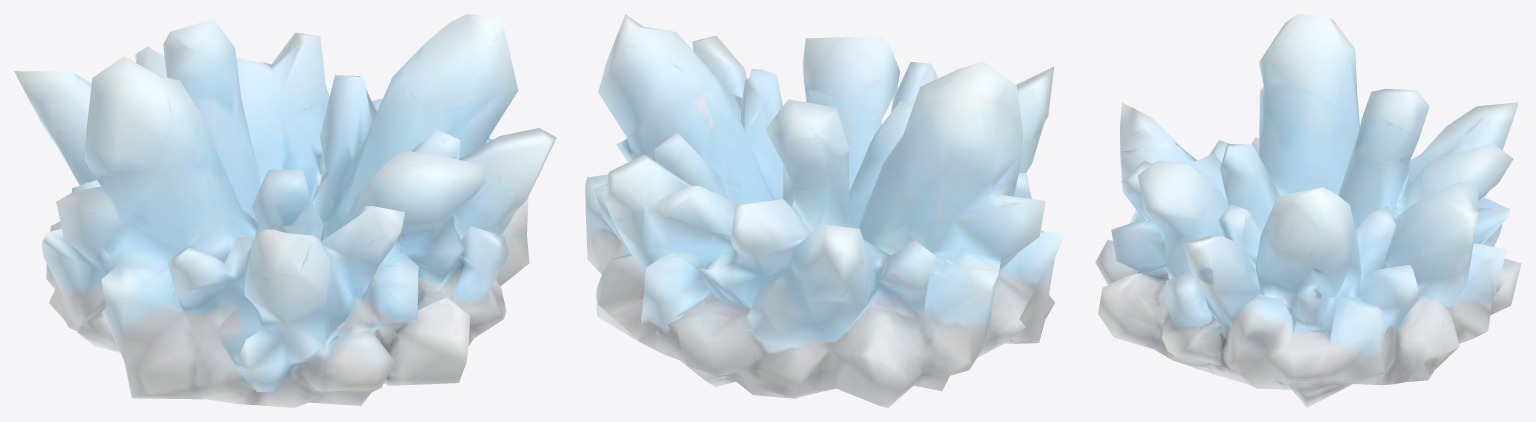
File: ice_shard.glb
3 views of the same model, side by side, from view 1: azimuth 30°, elevation 25°; view 2: azimuth 150°, elevation 25°; view 3: azimuth 270°, elevation 25° (orthographic). The views are drawn at different scales.
Parts seen in each view (by area): view 1: 0; view 2: 0; view 3: 0.
Part boxes in pixels (x1,y1,x2,y2): 0: [14, 14, 556, 407]; 0: [585, 14, 1066, 407]; 0: [1095, 14, 1521, 407].
Size of the model in its own units: 1.9 by 1.29 by 1.89.
1 material, 1 textured.
